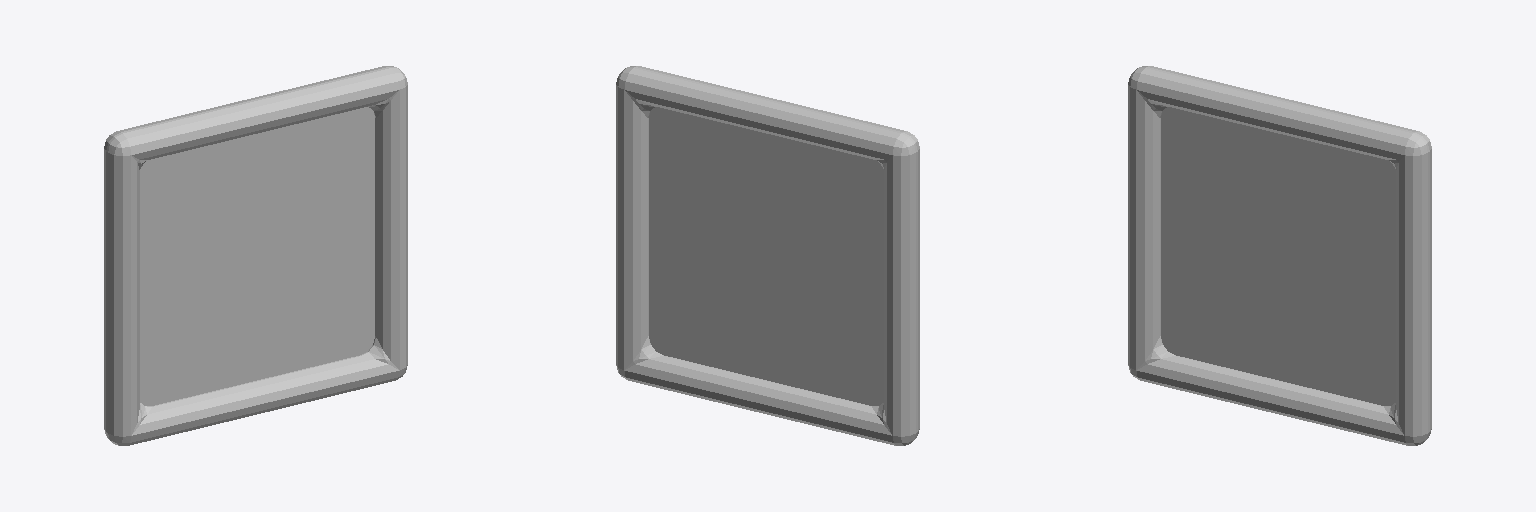
The model's file is newRedCube.obj.
The picture shows the model from 3 angles: view 1: azimuth 30°, elevation 25°; view 2: azimuth 150°, elevation 25°; view 3: azimuth 330°, elevation 25°; orthographic projection.
Visible parts, largest first — view 1: Plane; view 2: Plane; view 3: Plane.
Boxes of the visible parts, x1=… form: Plane: x1=104, y1=66, x2=407, y2=445; Plane: x1=616, y1=66, x2=919, y2=445; Plane: x1=1128, y1=66, x2=1431, y2=445.
Size of the model in its own units: 2 by 2 by 0.22.